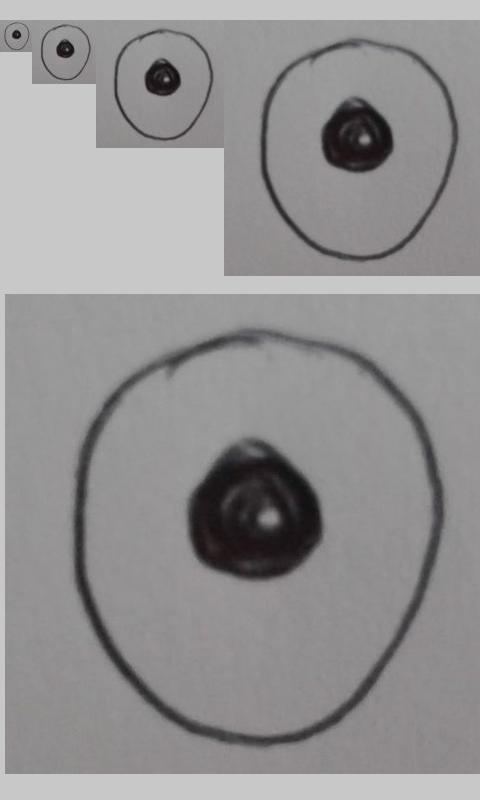radio_button: (71, 326, 446, 747), (258, 37, 460, 263), (113, 27, 215, 142), (39, 23, 91, 81), (3, 21, 30, 51)
